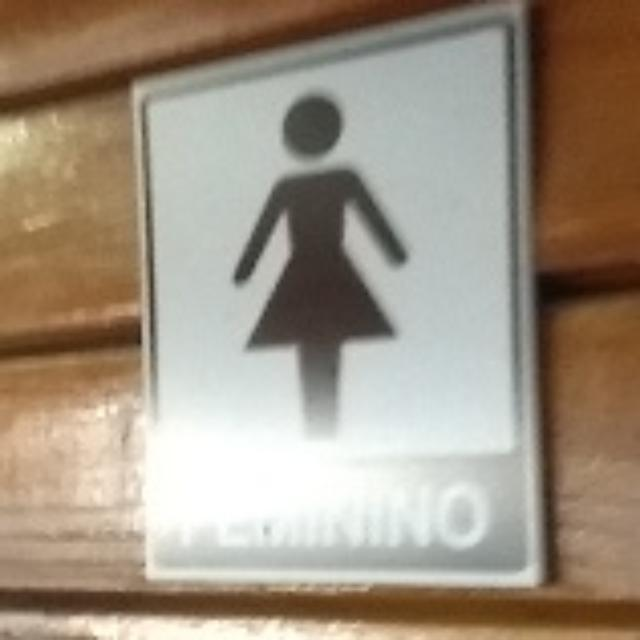wc nu: (142, 4, 539, 579)
